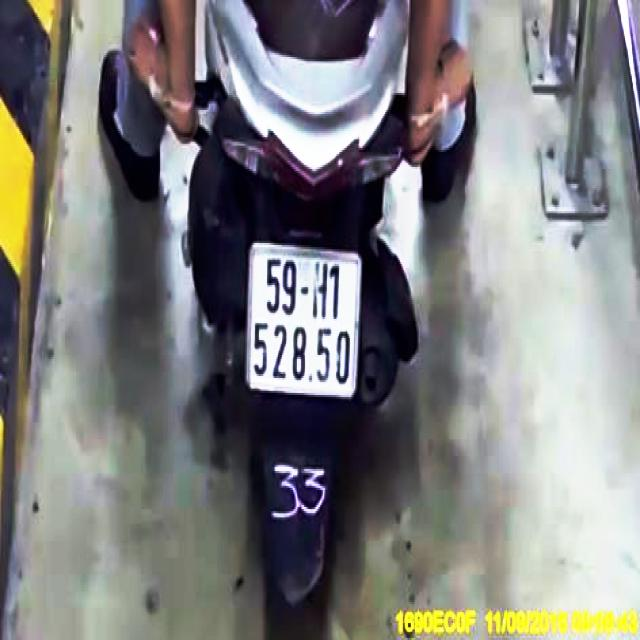license_plate: (249, 245, 364, 401)
